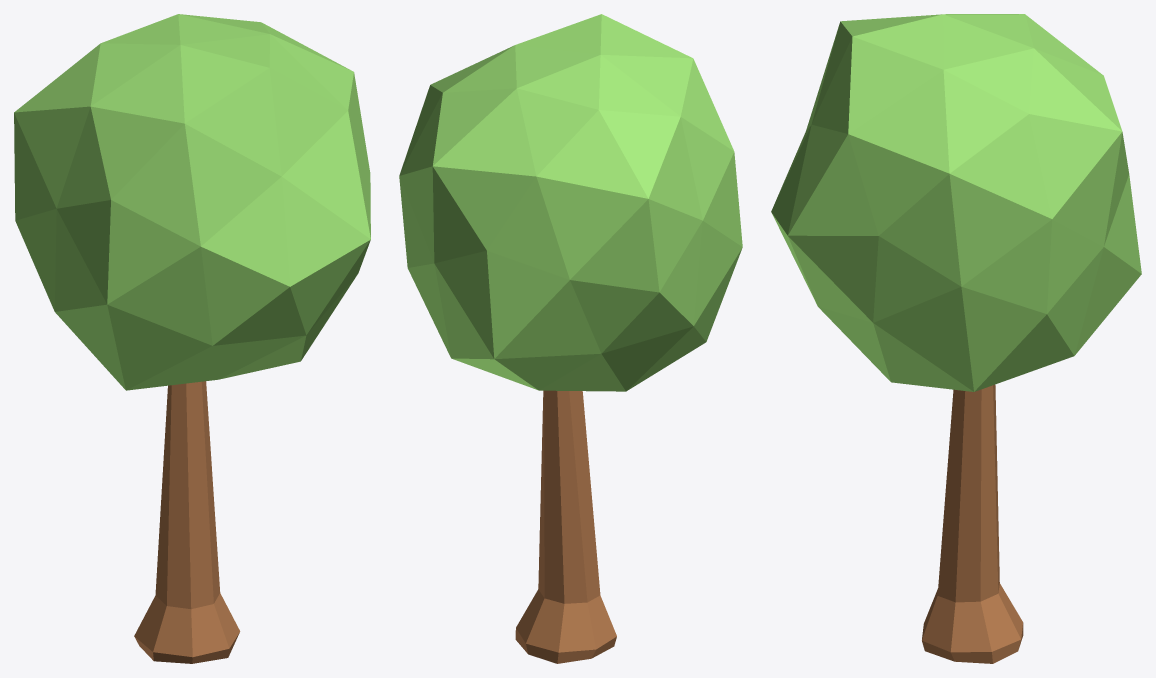
Rendered from Tree8.fbx.
The picture shows the model from 3 angles, left to right: view 1: azimuth 30°, elevation 25°; view 2: azimuth 150°, elevation 25°; view 3: azimuth 270°, elevation 25°; orthographic projection. The views are drawn at different scales.
Visible parts, largest first — view 1: Tree8; view 2: Tree8; view 3: Tree8.
Part boxes in pixels (<box>): Tree8: <box>14,14,370,663</box>; Tree8: <box>399,14,742,663</box>; Tree8: <box>771,14,1141,663</box>.
Bounding box in the file's own units: 204 × 412 × 223.
